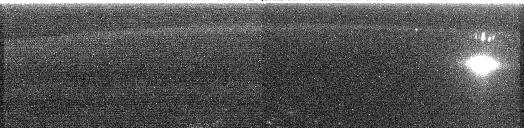positive: (470, 31, 498, 43)
